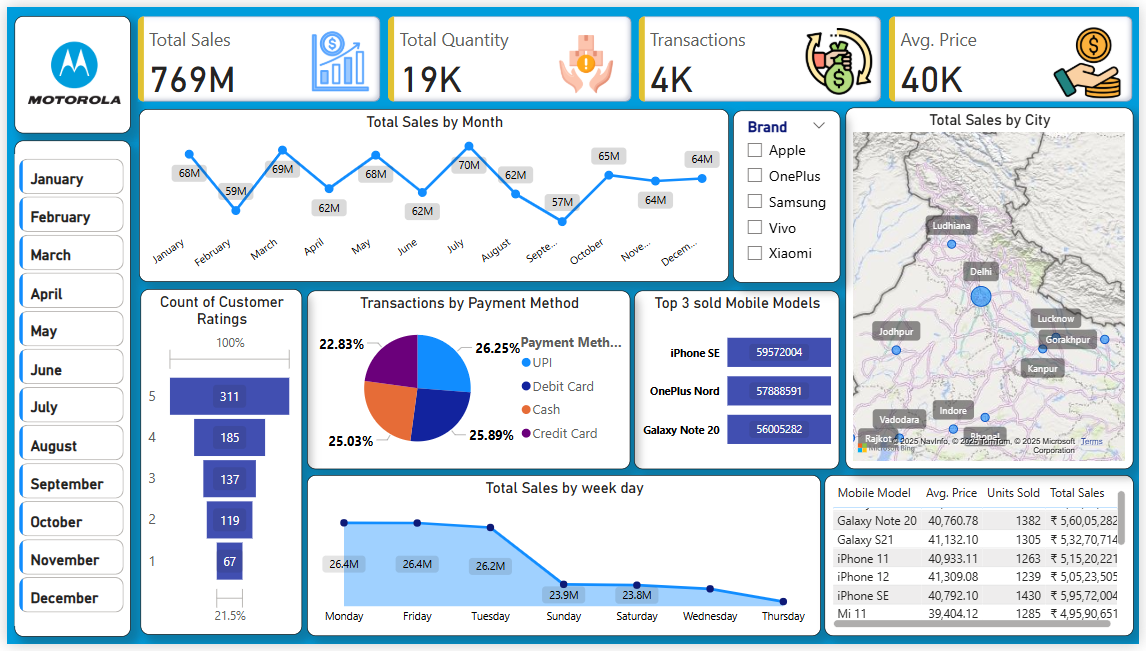

Layout of this report page (visuals, bound fields, positions):
{"tool":"powerbi","page":{"name":"Page 1","canvas":[1280,720],"ordinal":0},"visuals":[{"type":"image","box":[9.1,14.3,124.7,124.7],"z":0},{"type":"shape","box":[9.1,10.4,131.2,132.5],"z":1000},{"type":"image","box":[0,0,149.5,149.5],"z":2000},{"type":"shape","box":[8.6,150,131,560.3],"z":3000},{"type":"advancedSlicerVisual","fields":{"Values":["Mobile data sales.Date.Variation.Date Hierarchy.Month"]},"box":[9.2,165.4,128.5,533.1],"z":4000},{"type":"cardVisual","fields":{"Data":["Mobile data sales.Total Sales","Mobile data sales.Total Quantity","Mobile data sales.Transactions","Mobile data sales.Avg. Price"]},"box":[143.1,5,1137.3,107.8],"z":5000},{"type":"lineChart","fields":{"Category":["Mobile data sales.Date.Variation.Date Hierarchy.Month","Mobile data sales.Date.Variation.Date Hierarchy.Day"],"Y":["Mobile data sales.Total Sales"]},"box":[148.7,115.3,666.7,195.3],"z":6000},{"type":"hundredPercentStackedBarChart","title":"Top 3 sold Mobile Models","fields":{"Category":["Mobile data sales.Mobile Model"],"Y":["Mobile data sales.Total Sales"]},"box":[708.9,320,232.2,202.2],"z":7000},{"type":"pieChart","fields":{"Category":["Mobile data sales.Payment Method"],"Y":["Mobile data sales.Transactions"]},"box":[338.9,320,365.6,202.2],"z":8000},{"type":"funnel","title":"Count of Customer Ratings","fields":{"Category":["Mobile data sales.Customer Ratings"],"Y":["CountNonNull(Mobile data sales.Customer Name)"]},"box":[150,319.2,182.5,390.8],"z":9000},{"type":"stackedAreaChart","fields":{"Category":["Mobile data sales.week day"],"Y":["Mobile data sales.Total Sales"]},"box":[338.3,528.3,580.8,181.7],"z":10000},{"type":"tableEx","fields":{"Values":["Mobile data sales.Mobile Model","Mobile data sales.Avg. Price","Sum(Mobile data sales.Units Sold)","Mobile data sales.Total Sales"]},"box":[923.3,528.3,349,181.7],"z":11000},{"type":"map","fields":{"Category":["Mobile data sales.City"],"Size":["Mobile data sales.Total Sales"]},"box":[947.5,113.6,325,408.5],"z":11001},{"type":"slicer","fields":{"Values":["Mobile data sales.Brand"]},"box":[820,116.7,121.1,194.4],"z":11002}]}

Visuals, with their boxes in screenshot pixels (x1, y1, x2, y2), scaled from the page's 1280x720 canvas onto the 1146x651 screenshot:
image: box(8, 13, 120, 126)
shape: box(8, 9, 126, 129)
image: box(0, 0, 134, 135)
shape: box(8, 136, 125, 642)
advancedSlicerVisual - Mobile data sales.Date.Variation.Date Hierarchy.Month: box(8, 150, 123, 632)
cardVisual - Mobile data sales.Total Sales x Mobile data sales.Total Quantity: box(128, 5, 1145, 102)
lineChart - Mobile data sales.Date.Variation.Date Hierarchy.Month x Mobile data sales.Date.Variation.Date Hierarchy.Day: box(133, 104, 730, 281)
"Top 3 sold Mobile Models" hundredPercentStackedBarChart: box(635, 289, 843, 472)
pieChart - Mobile data sales.Payment Method x Mobile data sales.Transactions: box(303, 289, 631, 472)
"Count of Customer Ratings" funnel: box(134, 289, 298, 642)
stackedAreaChart - Mobile data sales.week day x Mobile data sales.Total Sales: box(303, 478, 823, 642)
tableEx - Mobile data sales.Mobile Model x Mobile data sales.Avg. Price: box(827, 478, 1139, 642)
map - Mobile data sales.City x Mobile data sales.Total Sales: box(848, 103, 1139, 472)
slicer - Mobile data sales.Brand: box(734, 106, 843, 281)
